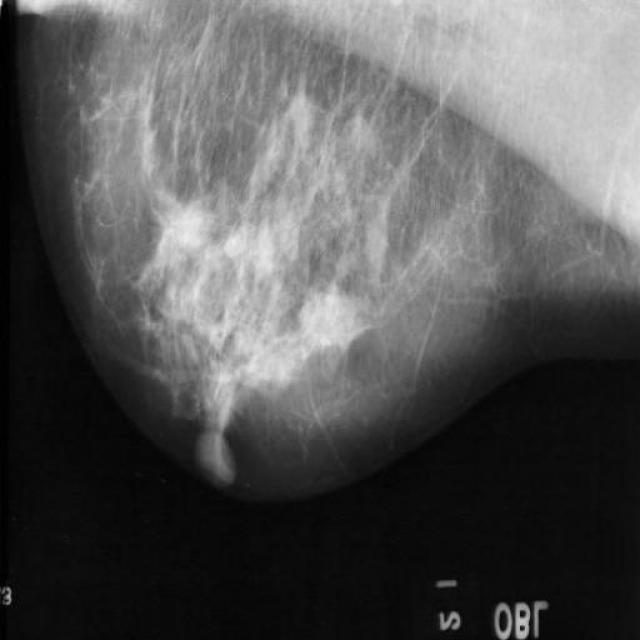cancer: (115, 280, 170, 350)
